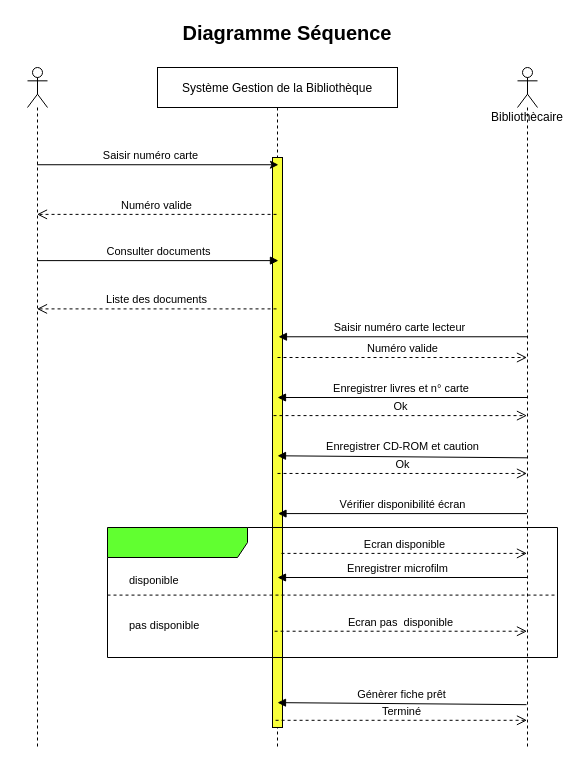
The diagram is 581 pixels wide and 765 high, and some of its shapes have lost their labels. The box of each missing label's shape, as (x1, y1, x2, y2) in pixels:
Alternatif: (106, 526, 558, 658)
Lecteur: (26, 66, 48, 748)
